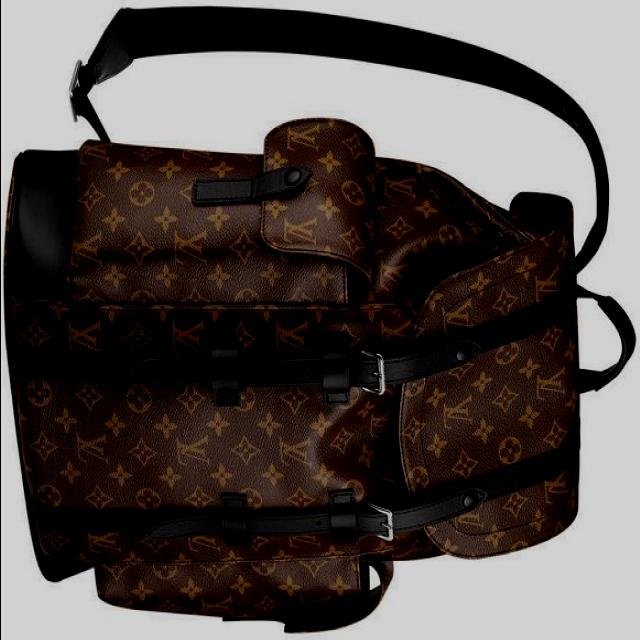backpack: (3, 5, 637, 635)
